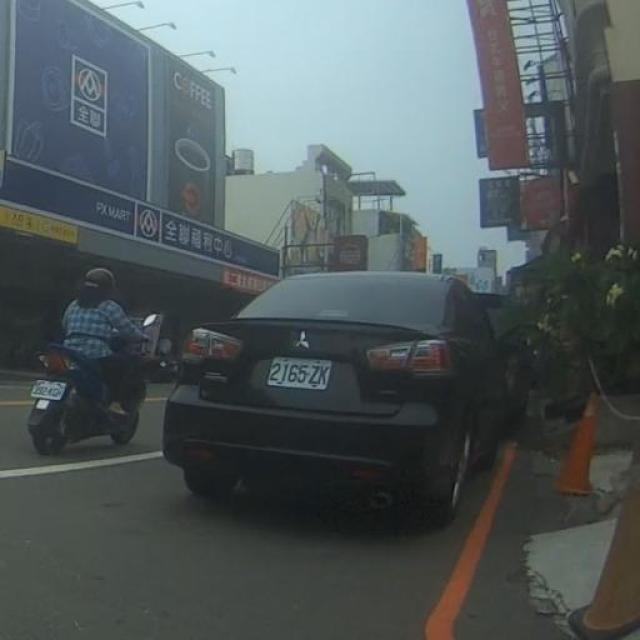illegalparking: (164, 271, 508, 524)
